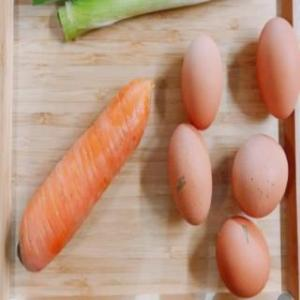carrot: (18, 76, 152, 278)
egg: (251, 15, 299, 126), (229, 132, 289, 220), (167, 122, 213, 226), (214, 211, 272, 293), (178, 32, 222, 128)
